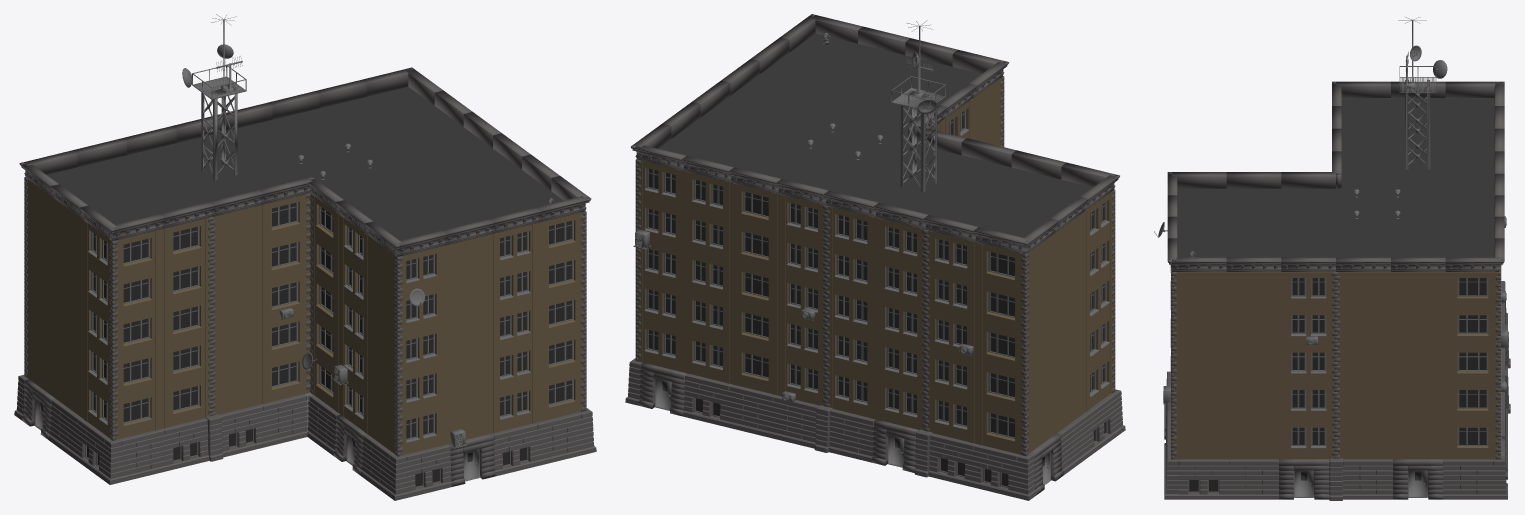
3 views of the same model, side by side, from view 1: azimuth 30°, elevation 25°; view 2: azimuth 150°, elevation 25°; view 3: azimuth 270°, elevation 25° (orthographic). The views are drawn at different scales.
Parts seen in each view (by area): view 1: building_base; view 2: building_base; view 3: building_base.
Part boxes in pixels (x1=…): building_base: x1=14, y1=14, x2=596, y2=500; building_base: x1=625, y1=14, x2=1125, y2=500; building_base: x1=1154, y1=17, x2=1510, y2=500.
Bounding box in the file's own units: 3164 × 2968 × 2591.
